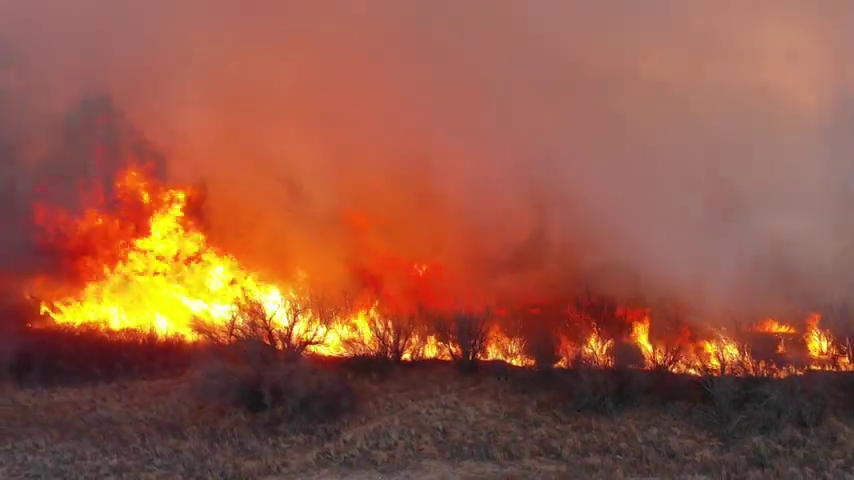forest_fire: (41, 189, 380, 356), (748, 317, 840, 367), (668, 333, 757, 373), (559, 333, 615, 365), (485, 327, 532, 365), (630, 316, 663, 367), (404, 332, 450, 360)
